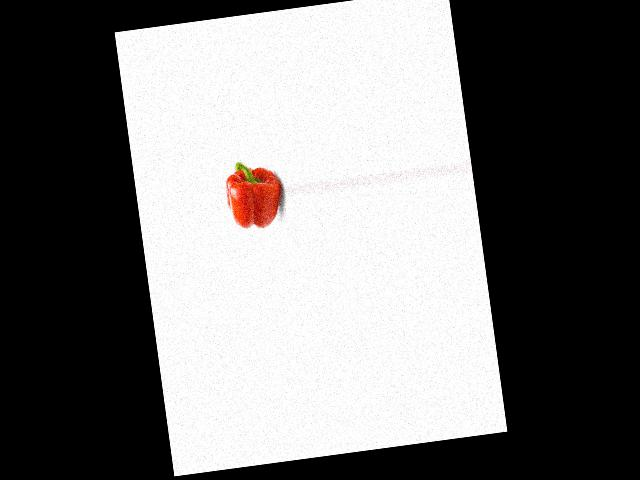bell_pepper: (222, 153, 285, 237)
